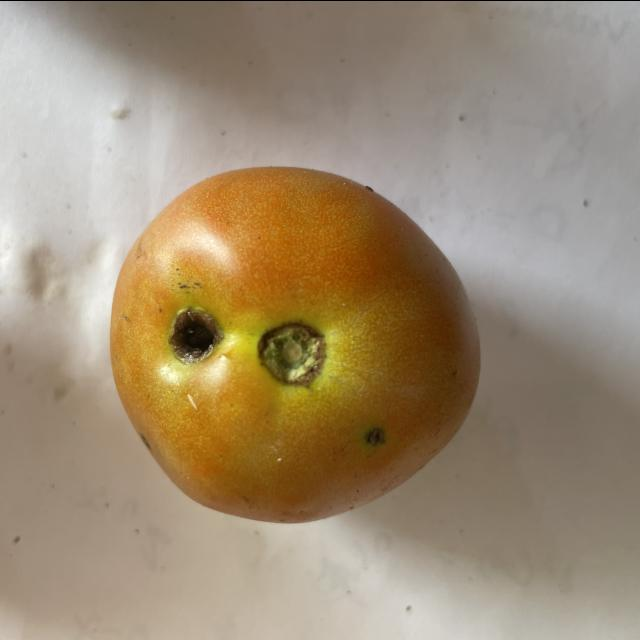fruitworm_bore: (159, 302, 223, 364)
